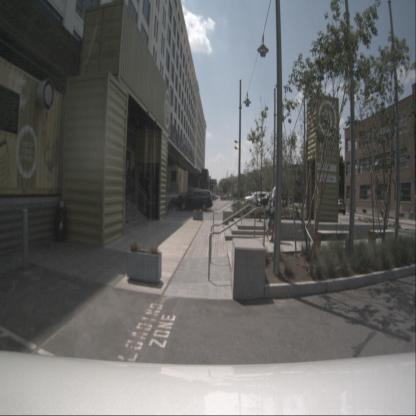human-pedestrian-adult: (265, 186, 279, 242)
vehicle-car: (178, 190, 212, 212), (257, 192, 287, 210), (244, 191, 270, 207), (329, 199, 346, 215)
